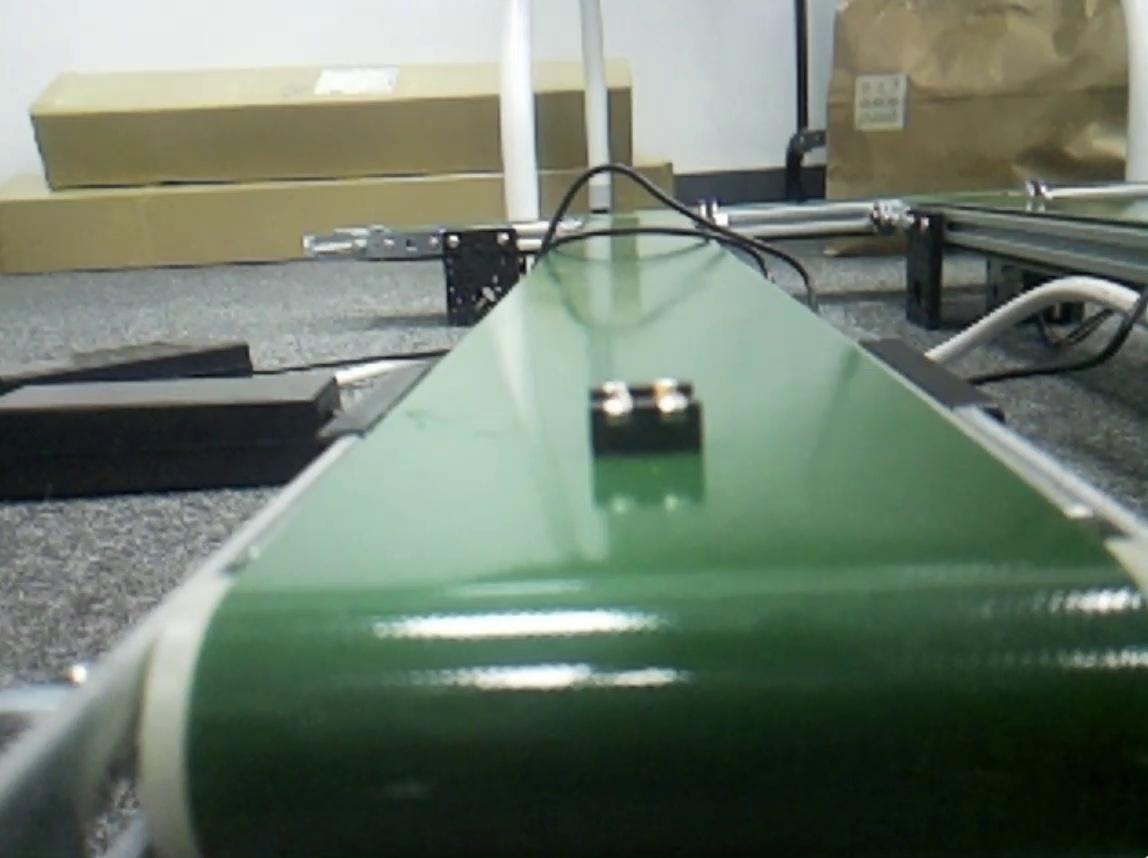inductor: (588, 378, 698, 450)
